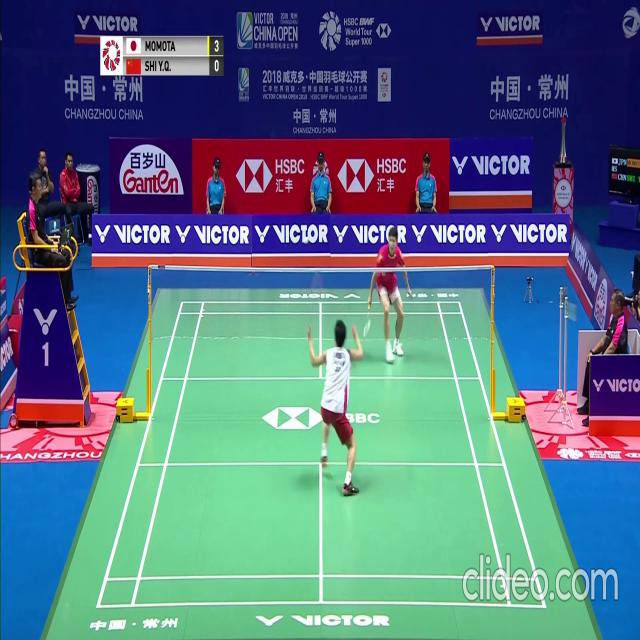Shuttlecock: (302, 236, 306, 244)
